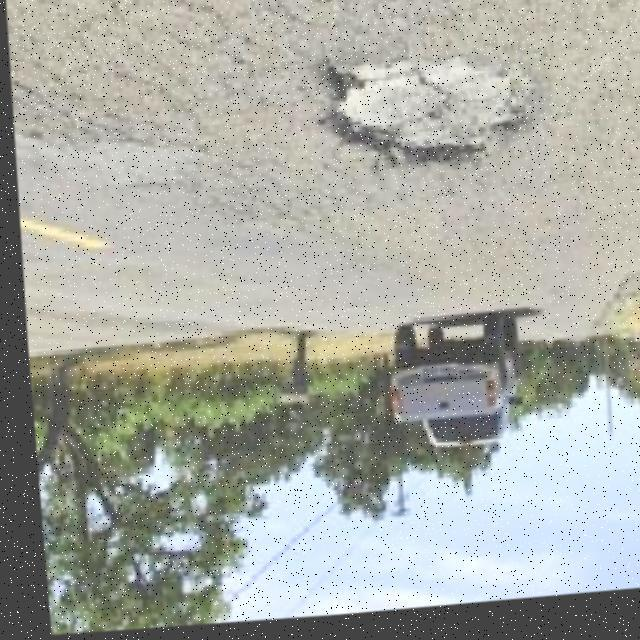pothole: (305, 40, 536, 193)
